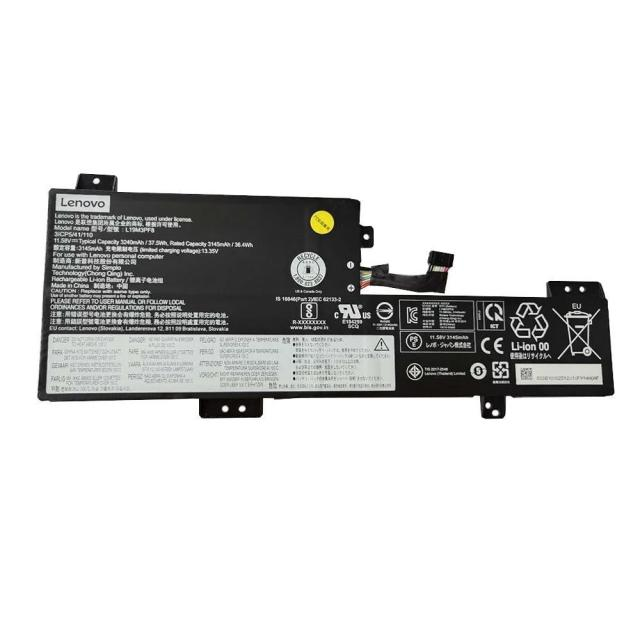electronic: (0, 122, 640, 523)
